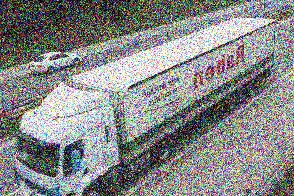car: (30, 51, 82, 74)
